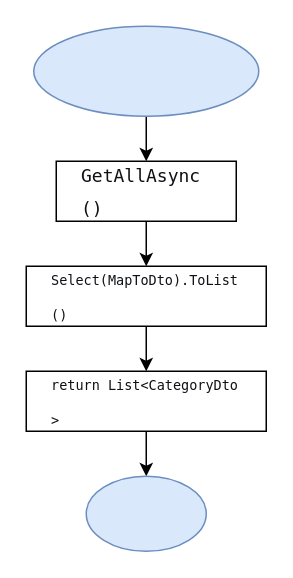
Image size: 293x578. Some labels were removed from this diagram. Here are the shapes that lost their labels. From the top down, the centre of each, then its label:
point (145, 70): شروع GetAllCategoryDtosAsyn c
point (145, 513): پایان
